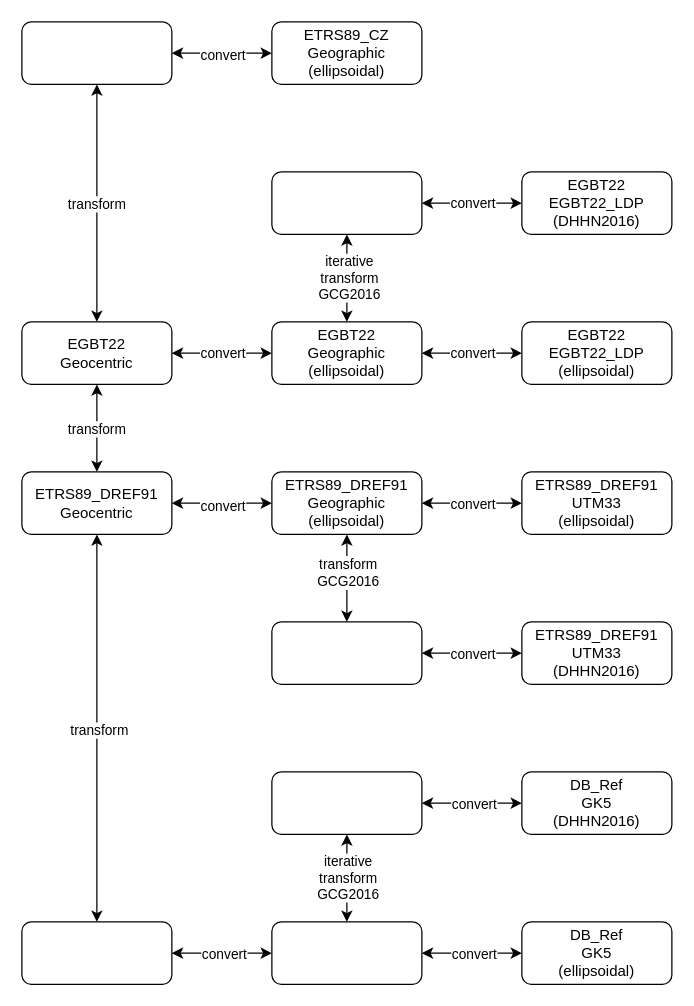
Image size: 694x1006. Some labels were removed from this diagram. Here are the shapes that lost their labels. From the top down, the box of each, then its label:
(21, 21, 172, 84): ETRS89_CZ Geocentric
(271, 171, 422, 234): EGBT22 Geographic (DHHN2016)
(271, 621, 422, 684): ETRS89_DREF91 Geographic (DHHN2016)
(271, 771, 422, 834): DB_Ref Geographic (DHHN2016)
(21, 921, 172, 984): DB_Ref Geocentric
(271, 921, 422, 984): DB_Ref Geographic (ellipsoidal)
